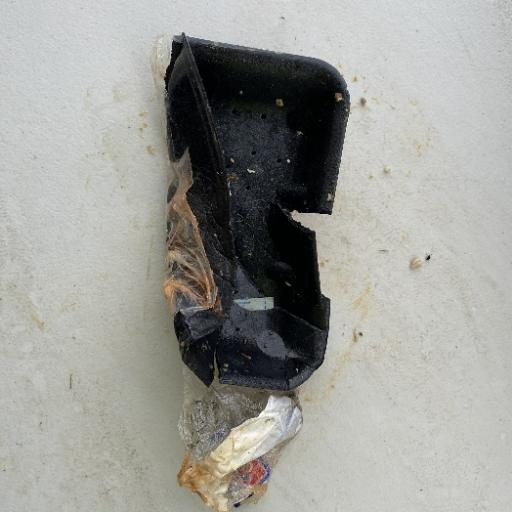Plastic: (148, 29, 352, 508)
